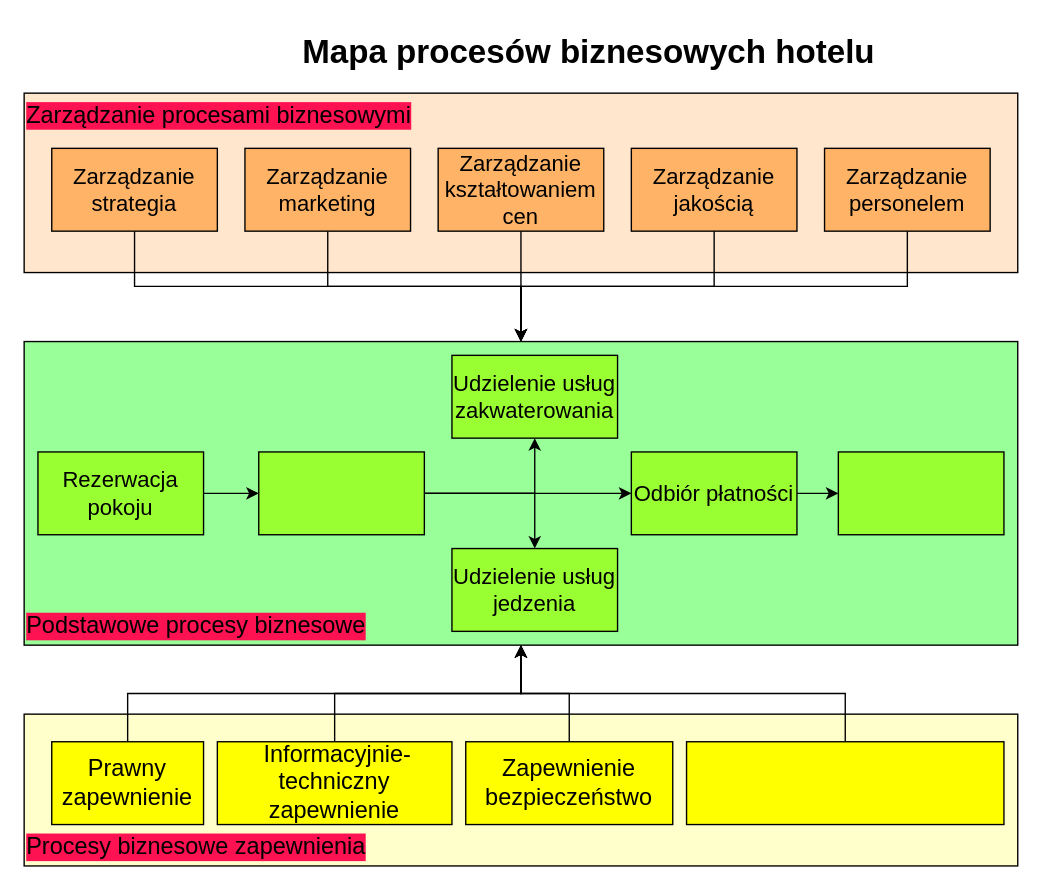
This 1042x890 diagram has some shape labels left out. Each missing label, with the centre of its shape:
Administracyjnie- gospodarczy zapewnienie: [844,782]
Wyjazd gościa: [920,493]
Zakwaterowanie gości: [340,493]
